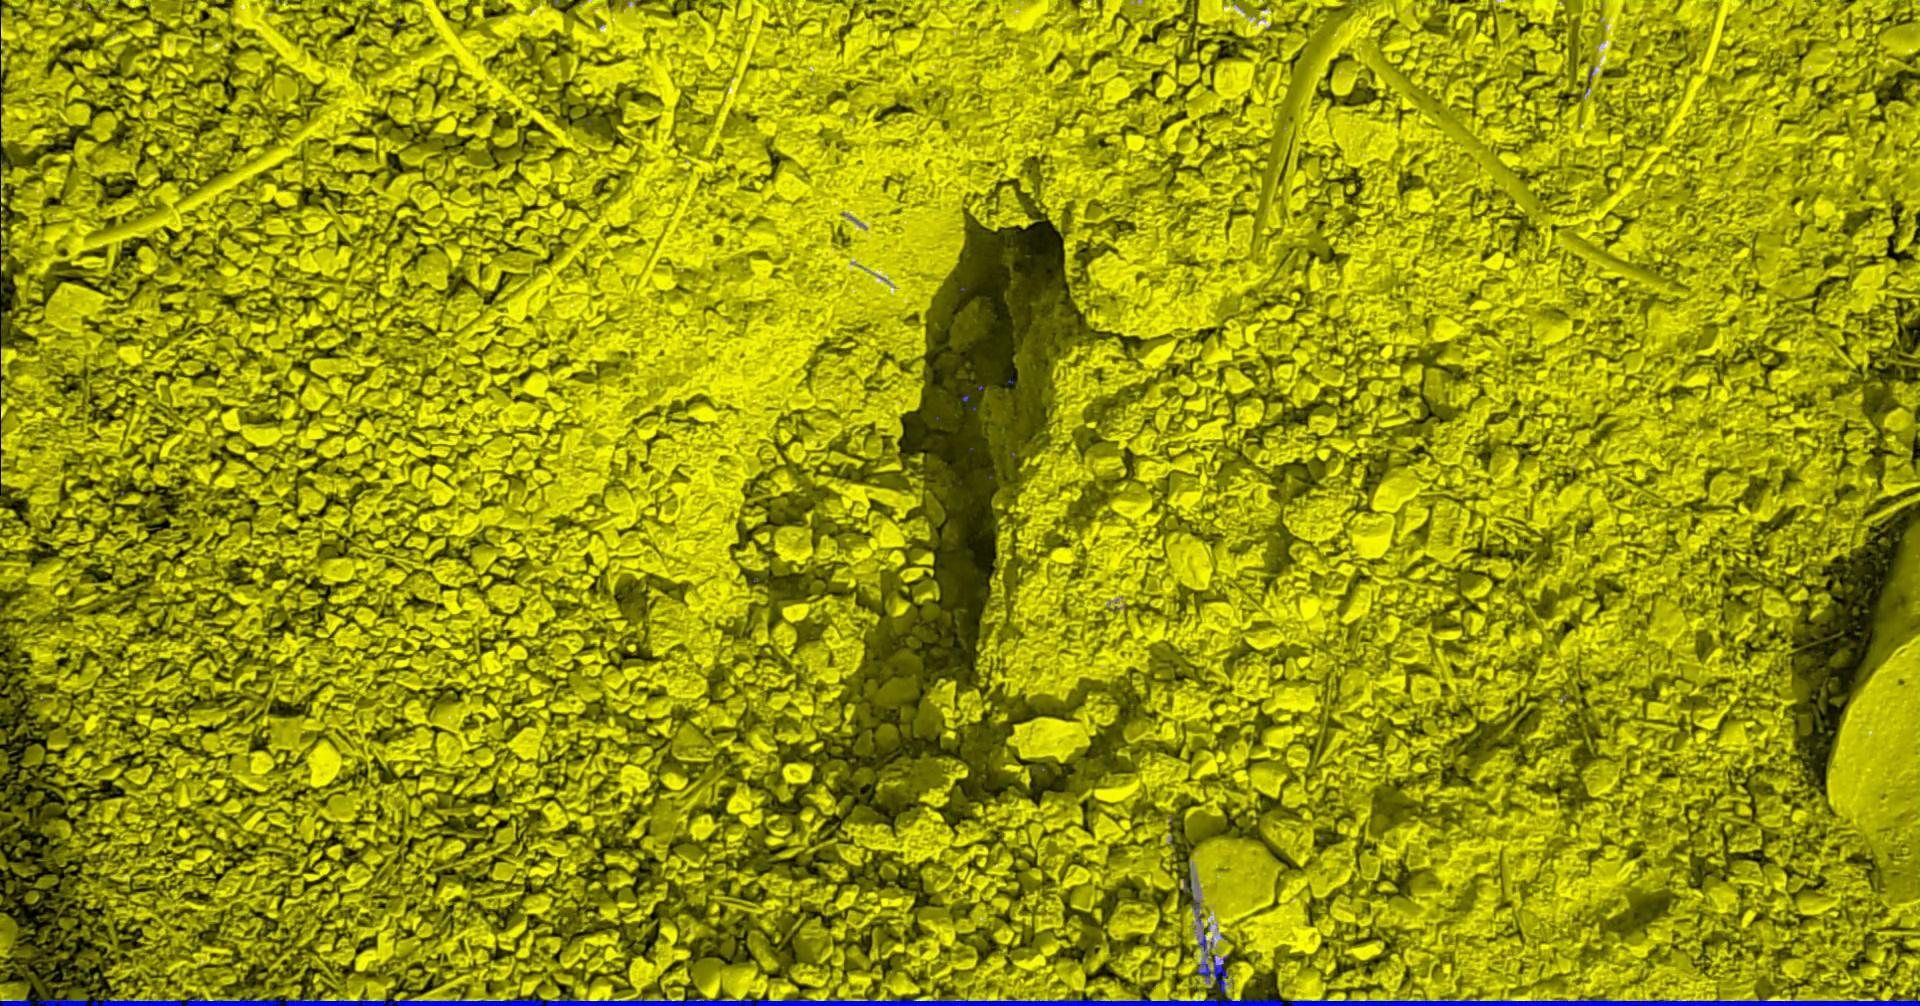ant: (1197, 954, 1229, 993), (1200, 934, 1214, 956)
